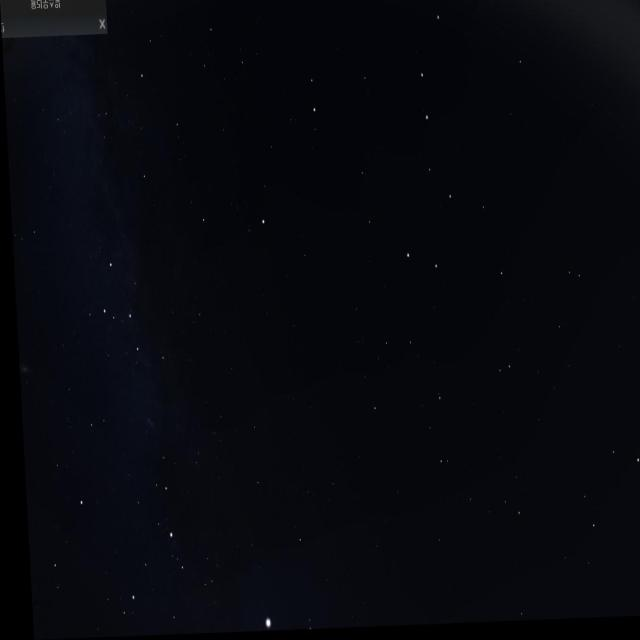ursa_major: (390, 1, 470, 300)
